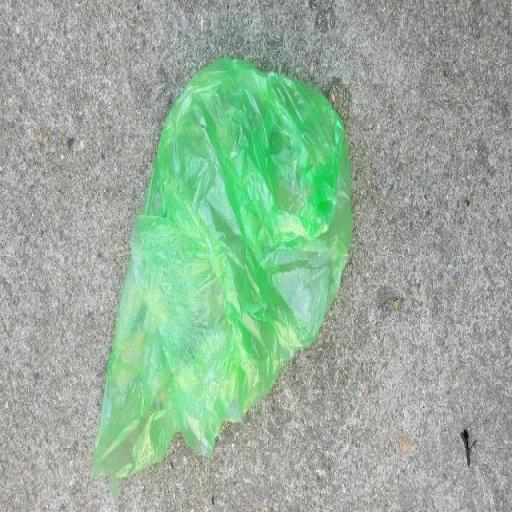plastic-bag: (88, 53, 354, 501)
